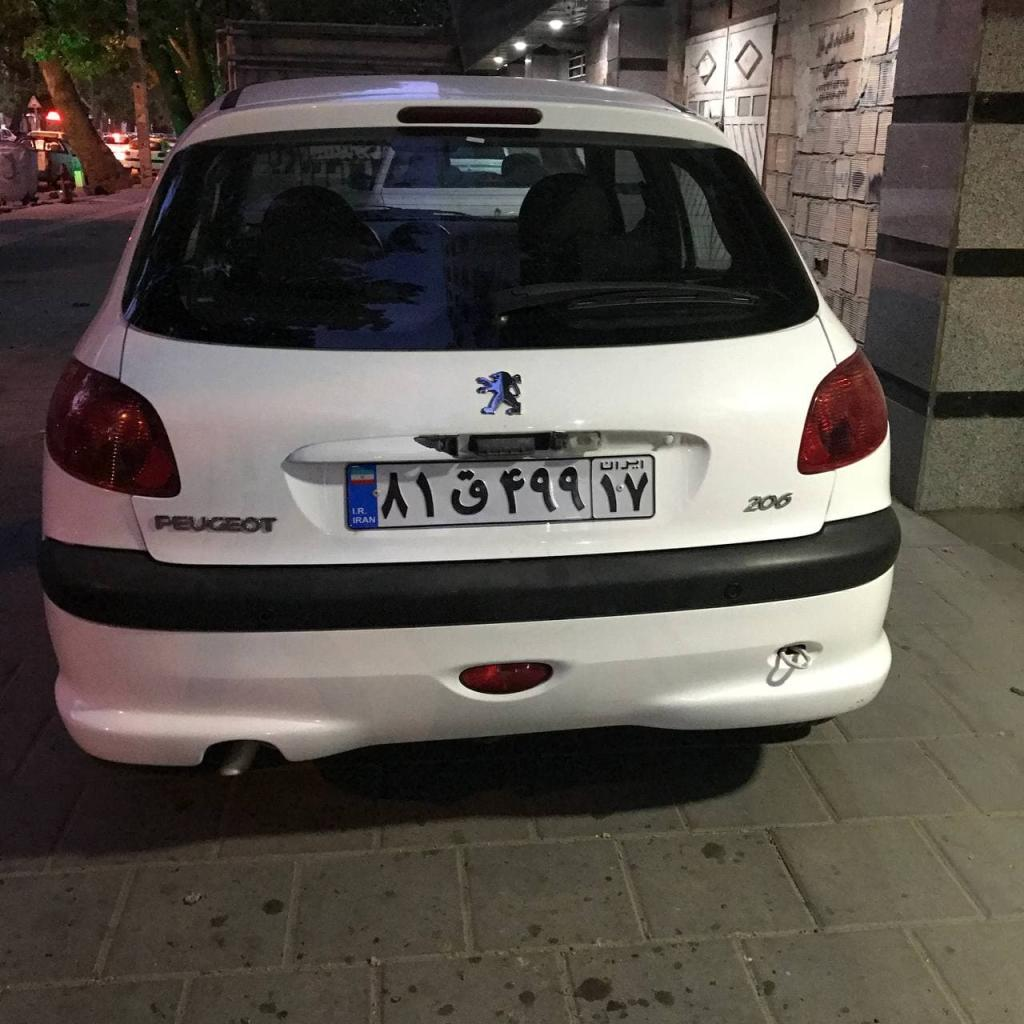Plates: (346, 454, 655, 530)
